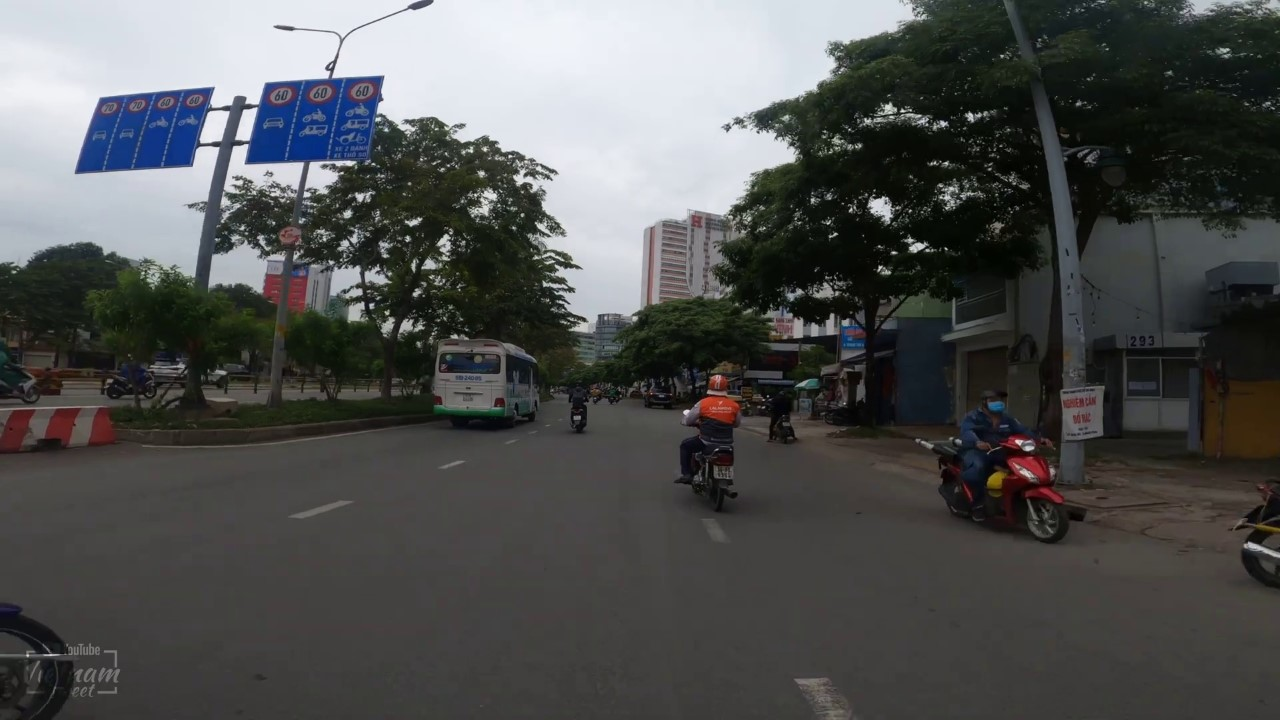gioi_han_60km: (307, 81, 338, 105), (267, 85, 298, 107), (347, 80, 378, 102), (184, 92, 207, 108), (155, 95, 177, 110)
